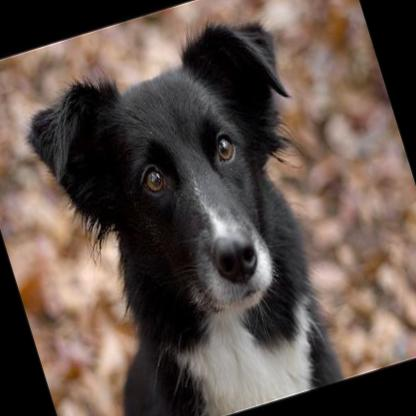Border_collie: (3, 0, 376, 416)
